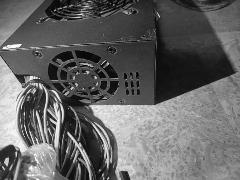electronic: (0, 0, 158, 106)
